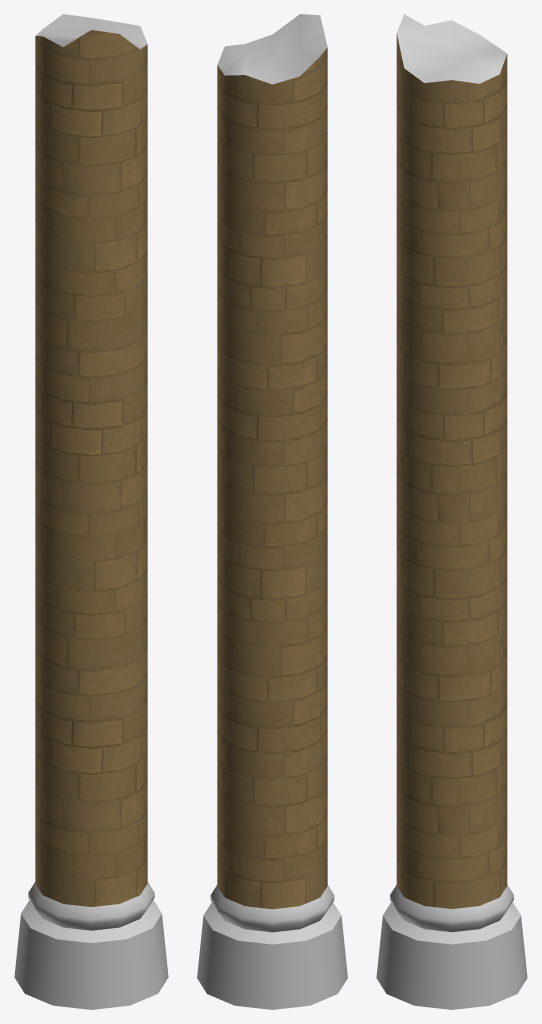
Rendered from Pillar_003.fbx.
The picture shows the model from 3 angles, left to right: view 1: azimuth 30°, elevation 25°; view 2: azimuth 150°, elevation 25°; view 3: azimuth 270°, elevation 25°; orthographic projection. The views are drawn at different scales.
Parts seen in each view (by area): view 1: Pillar_003; view 2: Pillar_003; view 3: Pillar_003.
Part boxes in pixels (box(x1,y1,x2,y2)): Pillar_003: box(14, 14, 168, 1009); Pillar_003: box(197, 14, 347, 1009); Pillar_003: box(376, 14, 527, 1009).
Size of the model in its own units: 135 by 937 by 135.
